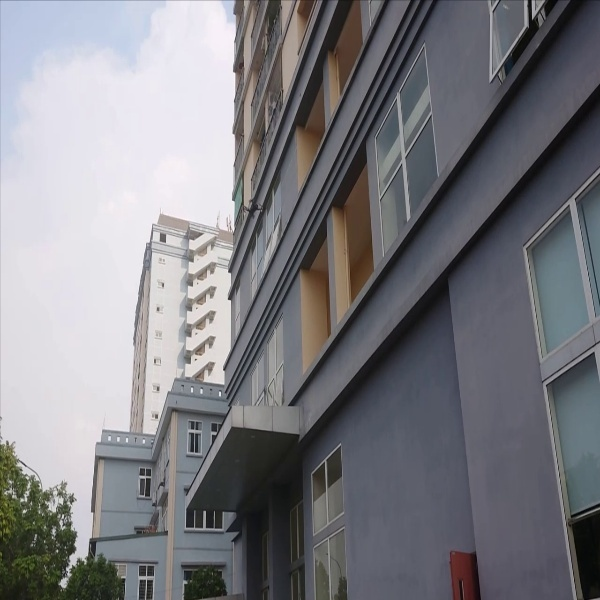drone: (238, 195, 269, 220)
